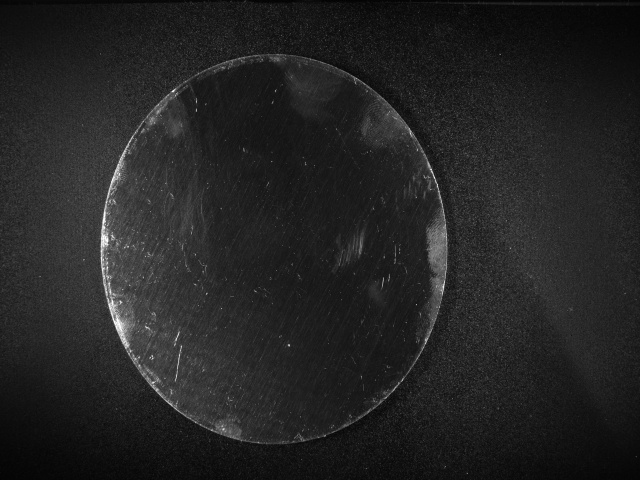ca_shang: (171, 321, 189, 388)
